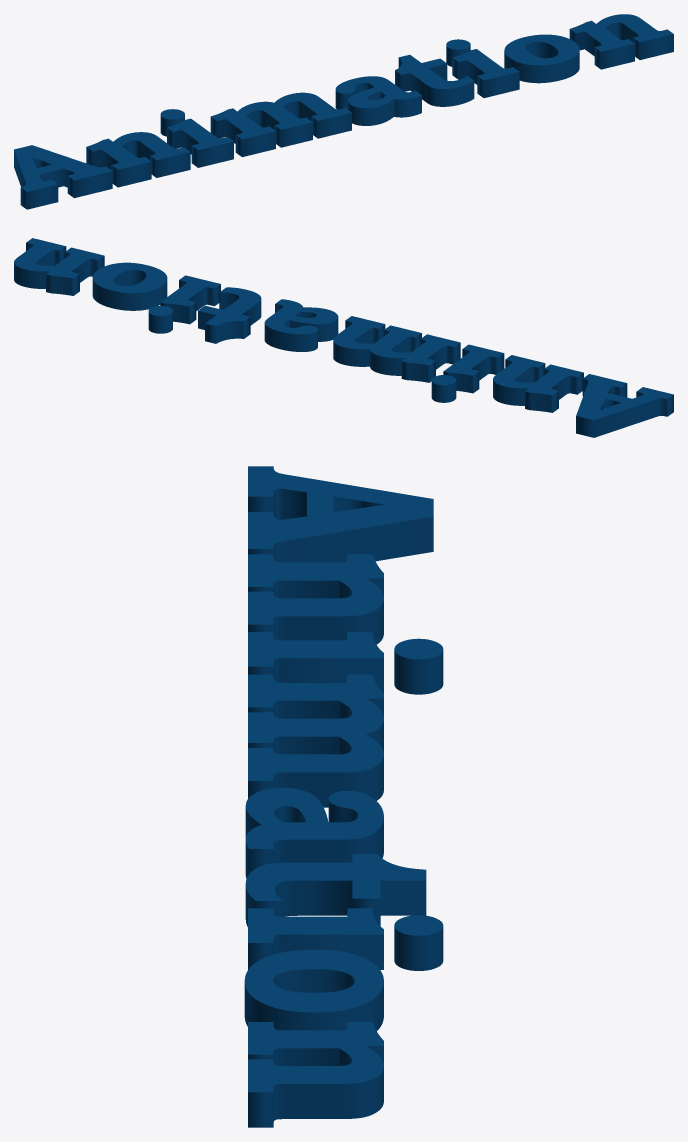
File: animation.fbx
3 views of the same model, one above another, from view 1: azimuth 30°, elevation 25°; view 2: azimuth 150°, elevation 25°; view 3: azimuth 270°, elevation 25° (orthographic). The views are drawn at different scales.
Visible parts, largest first — view 1: Text; view 2: Text; view 3: Text.
Boxes of the visible parts, box(x1,y1,x2,y2) form: Text: box(14, 14, 673, 209); Text: box(14, 238, 673, 437); Text: box(244, 466, 443, 1127).
Size of the model in its own units: 381 by 10 by 51.06.
